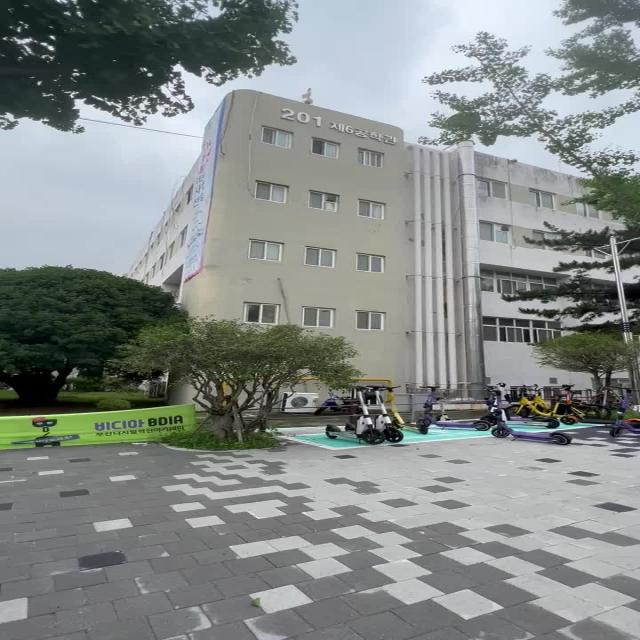building: (185, 91, 453, 329)
